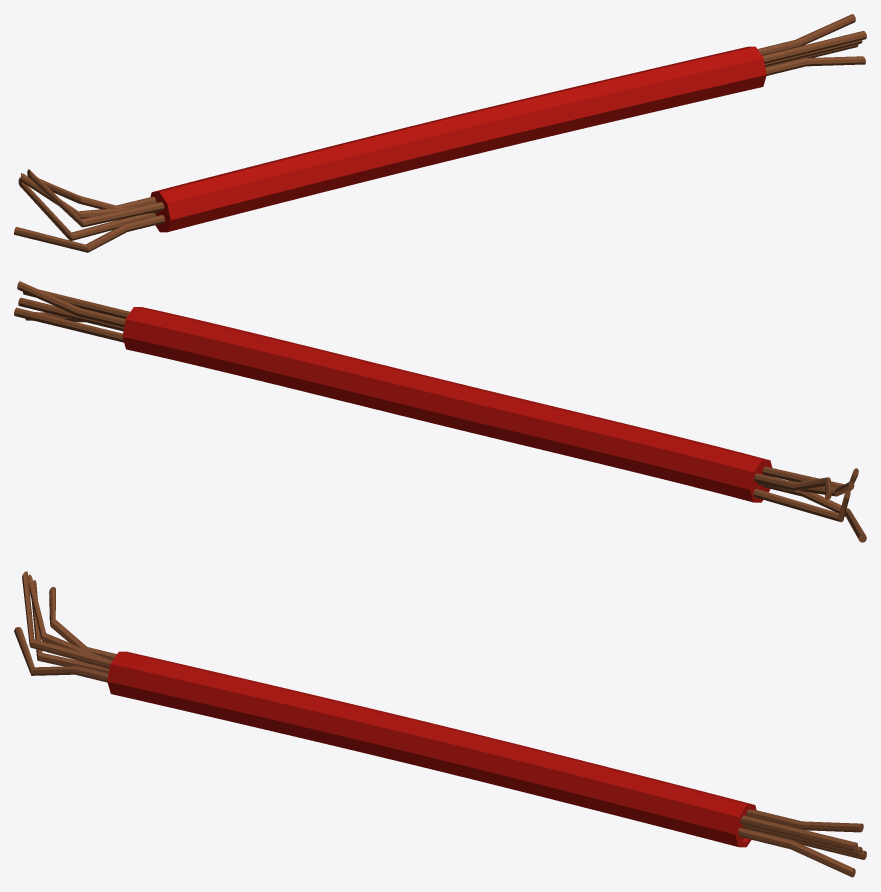
Rendered from samcable2.fbx.
The picture shows the model from 3 angles, top to bottom: view 1: azimuth 30°, elevation 25°; view 2: azimuth 150°, elevation 25°; view 3: azimuth 330°, elevation 25°; orthographic projection. The views are drawn at different scales.
Visible parts, largest first — view 1: RedCable; view 2: RedCable; view 3: RedCable.
Part boxes in pixels (left/top/right/bottom): RedCable: left=14, top=14, right=866, bottom=252; RedCable: left=14, top=281, right=866, bottom=542; RedCable: left=14, top=571, right=866, bottom=877.
Size of the model in its own units: 22.45 by 1.95 by 2.09.
